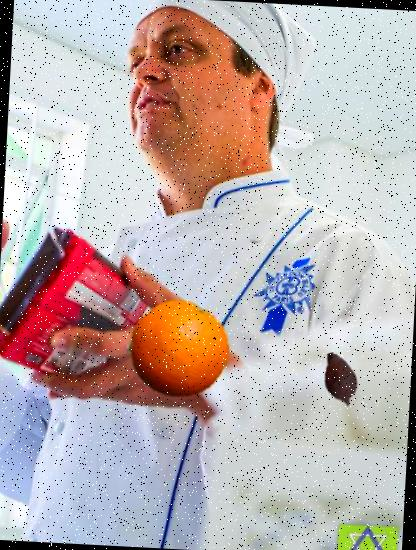Orange: (124, 295, 232, 402)
Salak: (310, 349, 370, 410)
